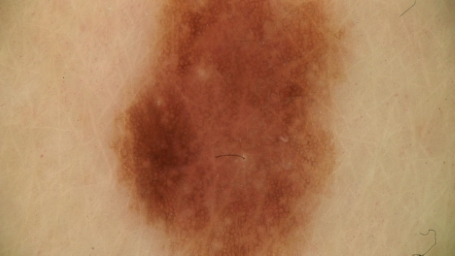melanoma: (117, 1, 353, 251)
